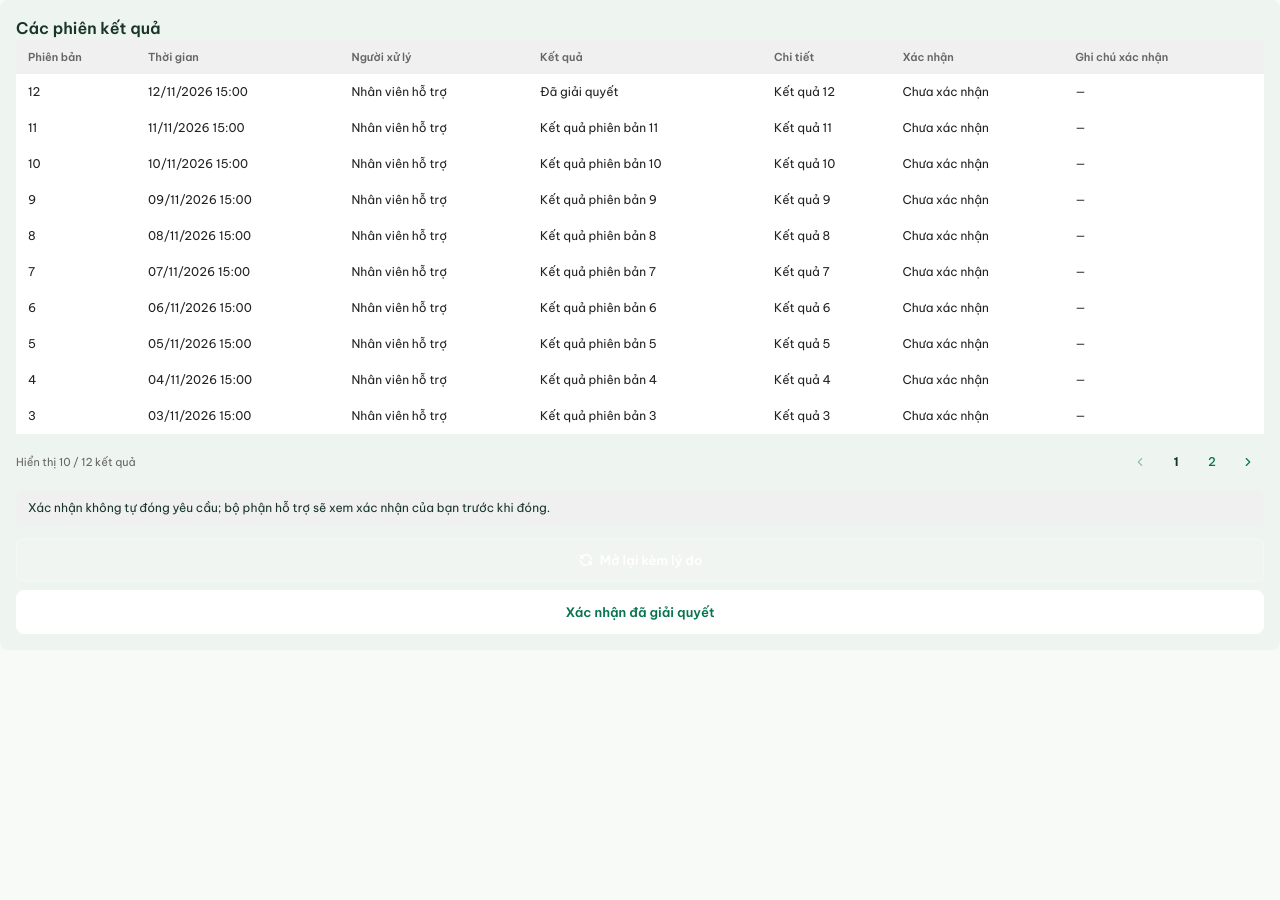
ResolutionCard › phân trang mỗi 10 kết quả và giữ bảng trong vùng cuộn riêng
The image size is (1280, 900).
Expected: the text "Kết quả 12" is shown, [768, 74, 896, 110]
Expected: the text "Kết quả 3" is shown, [768, 398, 896, 434]
Click the button named "Trang sau": [1248, 462] box [1232, 446, 1264, 478]
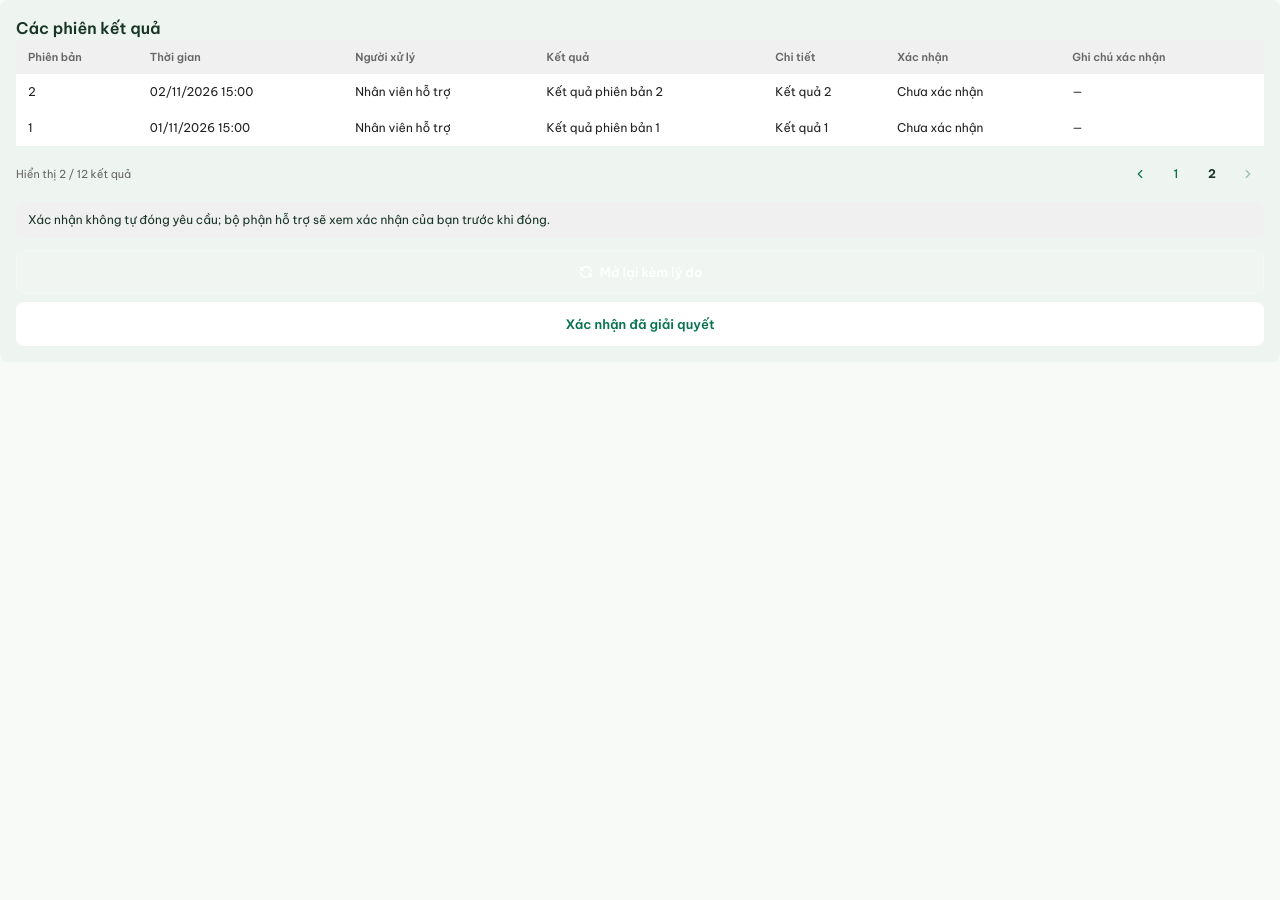
Expected: the text "Kết quả 1" is shown, [769, 110, 891, 146]
Now the text "Kết quả 2" is shown, box [769, 74, 891, 110]
Now the text "Kết quả 12" is gone
